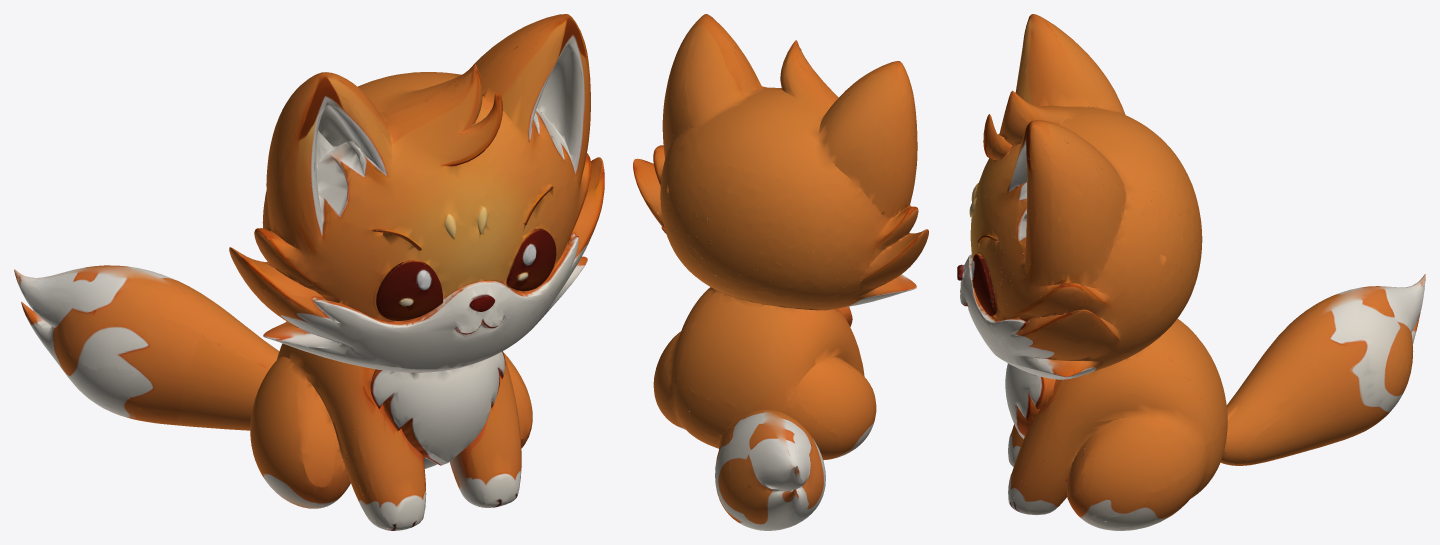
File: hunyuan-fox.glb
3 renders of one model, left to right at view 1: azimuth 30°, elevation 25°; view 2: azimuth 150°, elevation 25°; view 3: azimuth 270°, elevation 25°, orthographic. The views are drawn at different scales.
Visible parts, largest first — view 1: material; view 2: material; view 3: material.
Boxes of the visible parts, x1,y1,x2,y2 form: material: [14, 14, 604, 530]; material: [633, 14, 928, 530]; material: [957, 14, 1425, 530].
Size of the model in its own units: 0.7451 by 0.8477 by 0.8473.
Materials: 1 (1 with a texture image).
